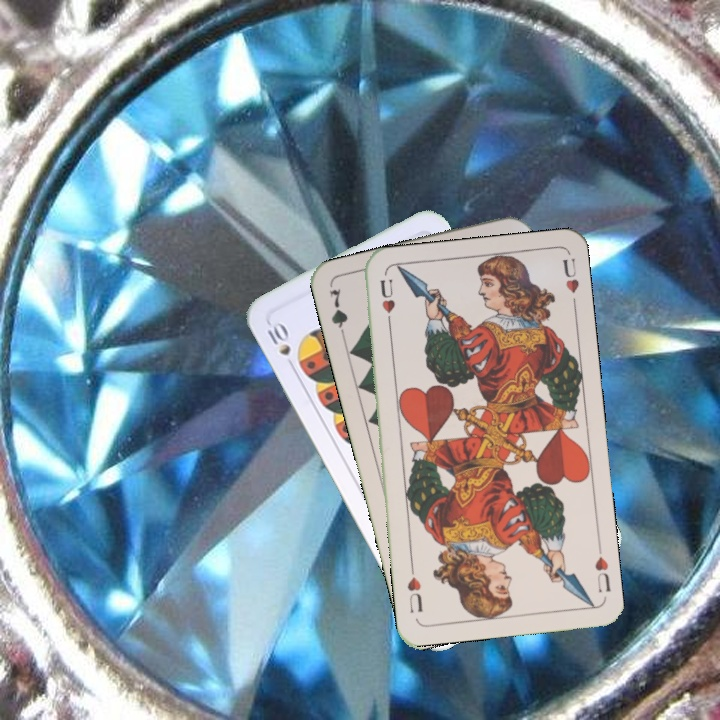G7: (325, 284, 351, 343)
HU: (376, 275, 398, 331), (591, 552, 614, 595)
S10: (263, 317, 293, 359)
